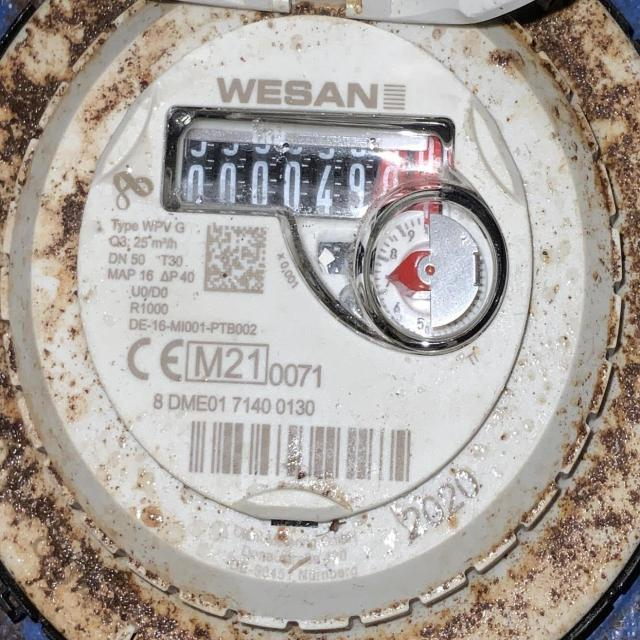gaz_meter: (75, 11, 538, 527)
indication: (177, 127, 445, 226)
